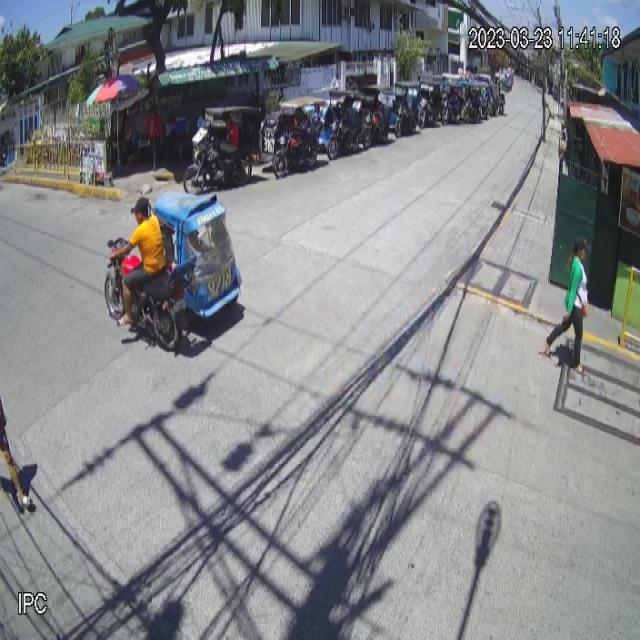Tricycle: (105, 192, 242, 354)
